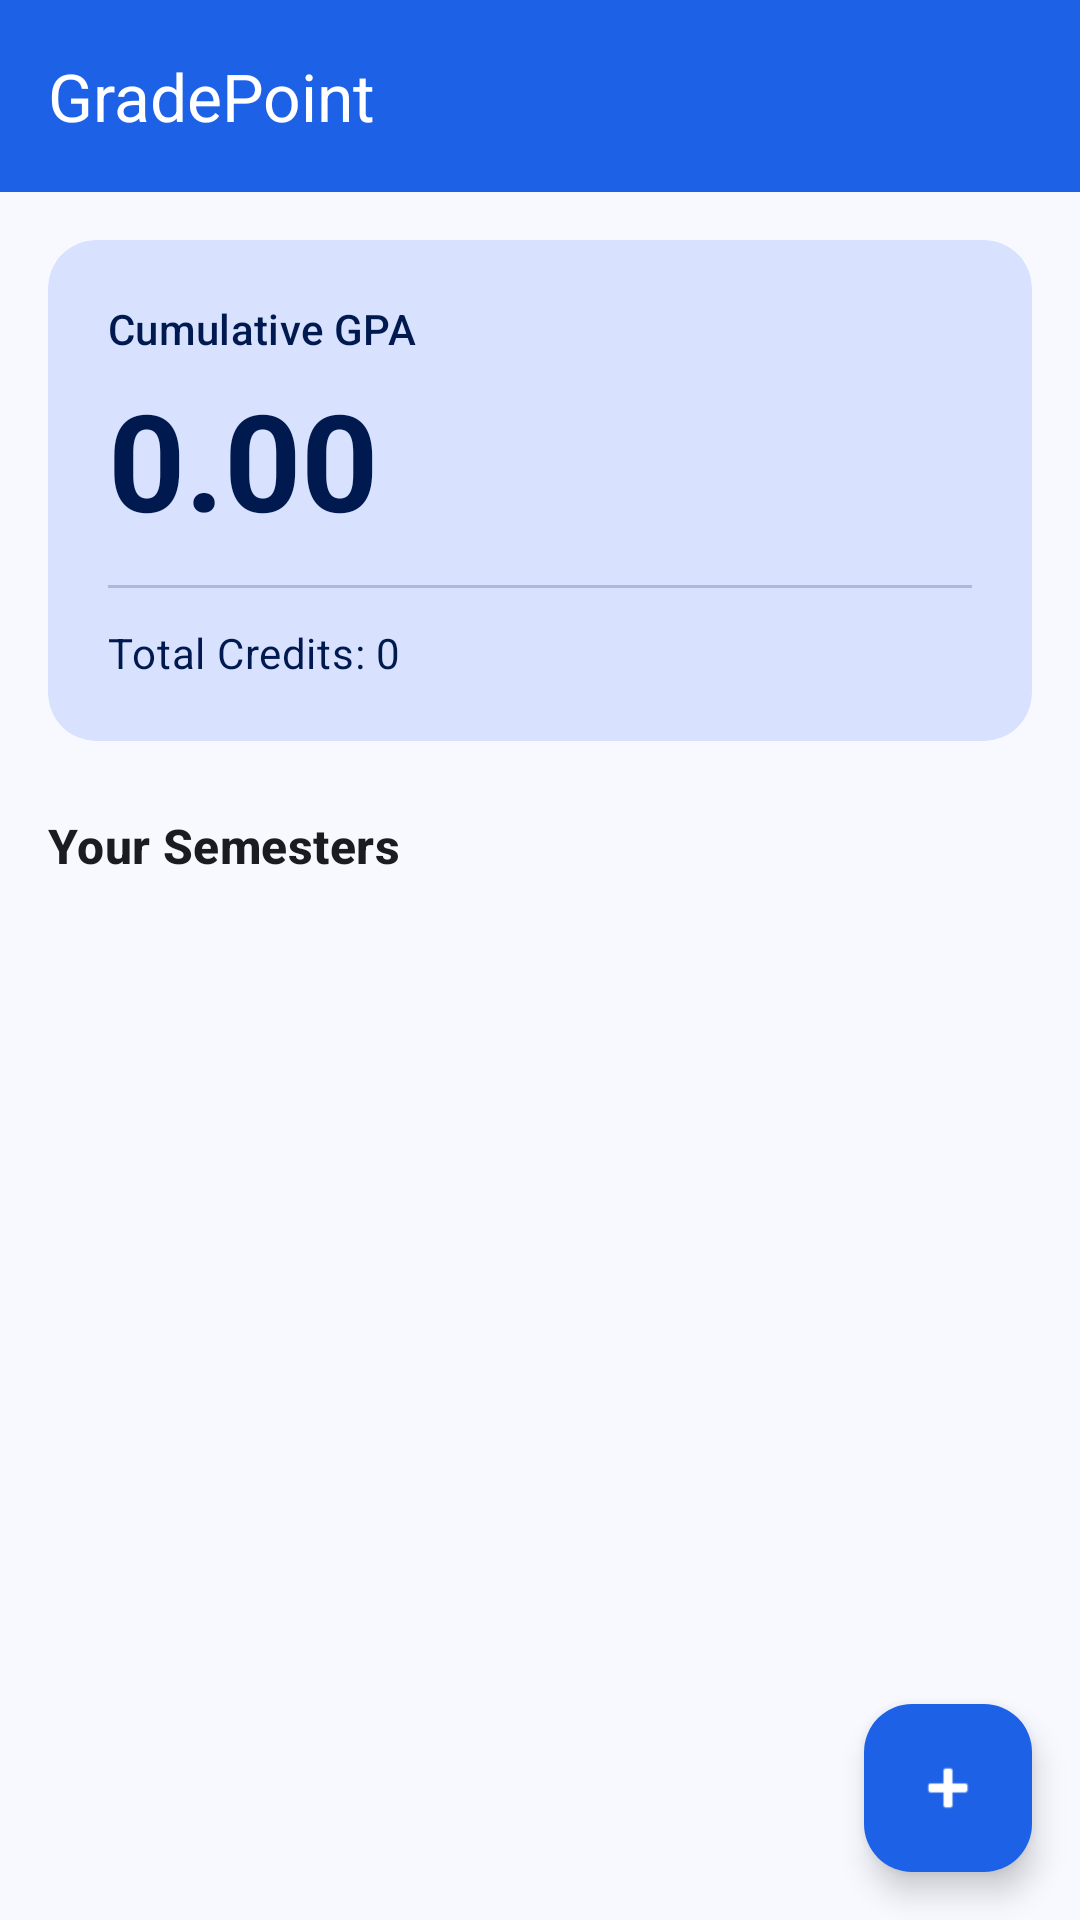

Named icons in this screenshot (1080px x 1920px) and their centers, point (x, y):
Add Semester: point (948, 1788)
